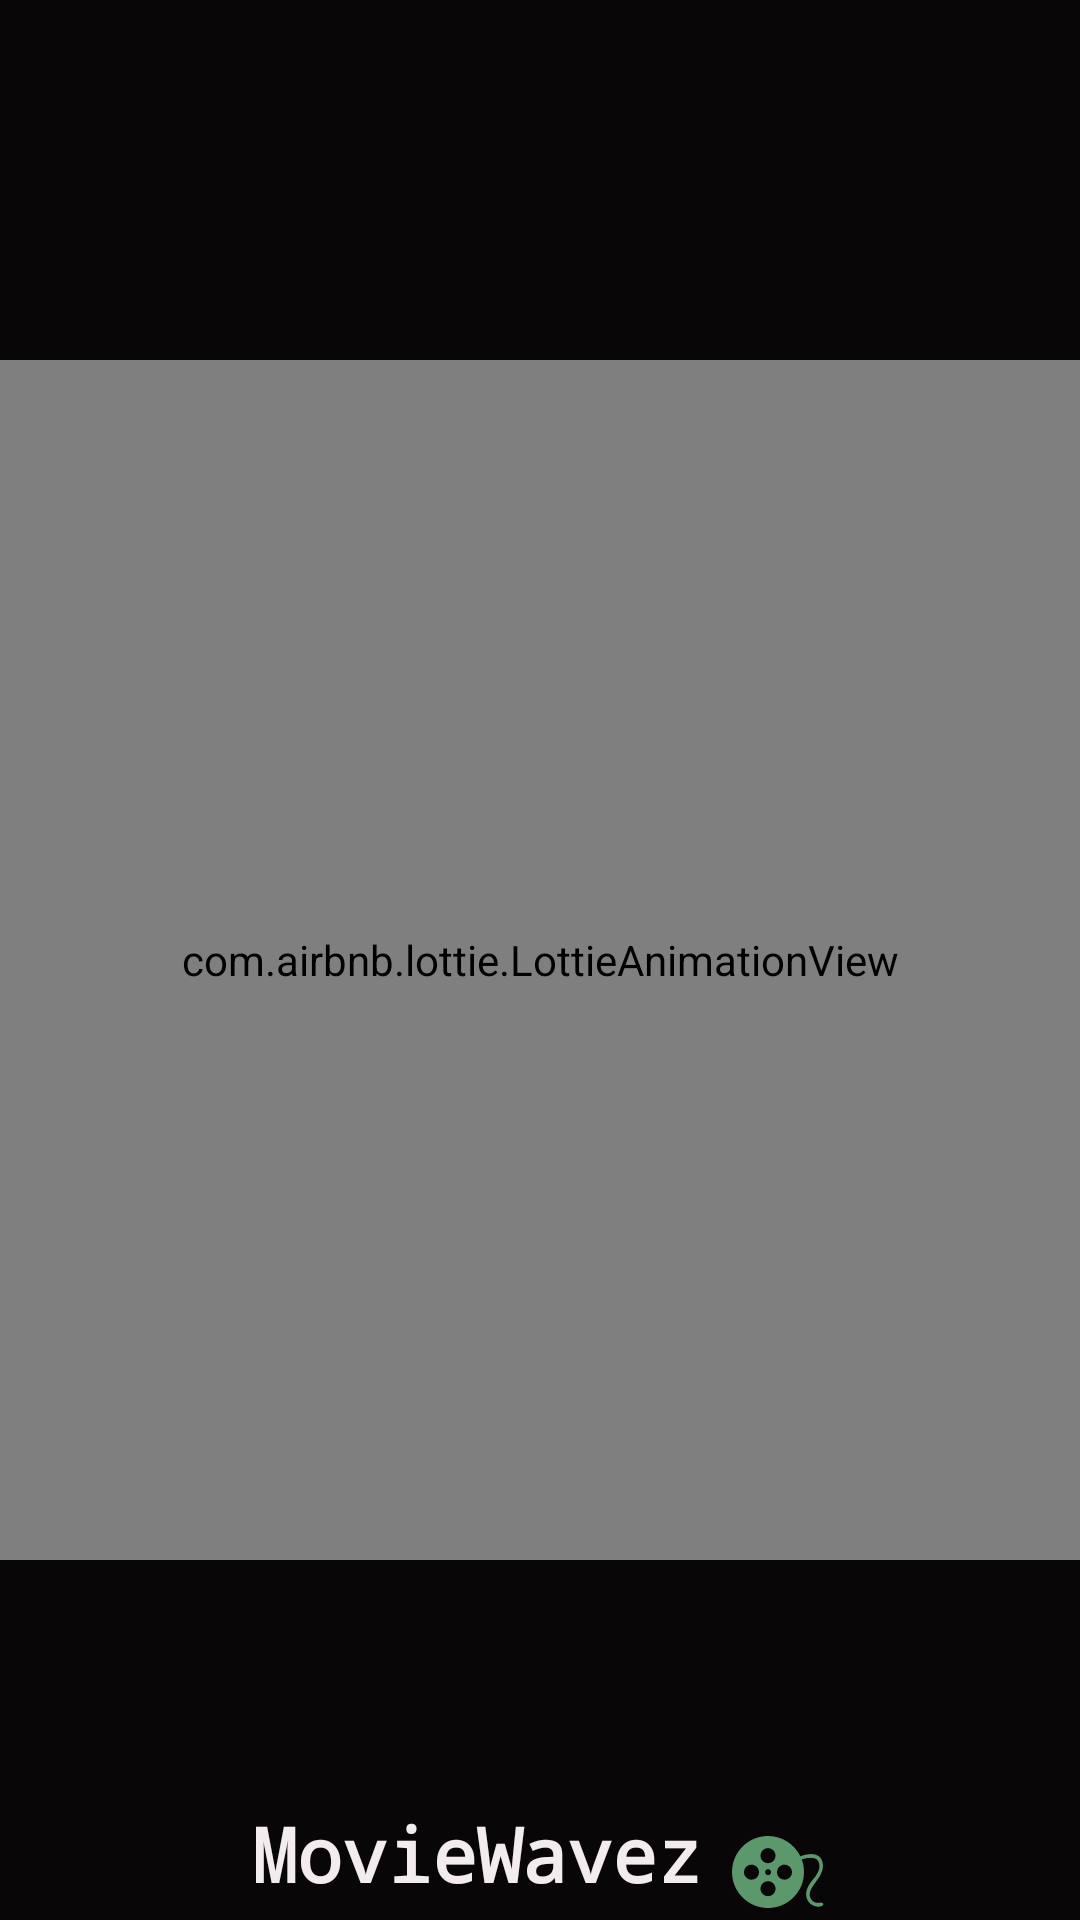

Where icons sit on this 1080 × 1920 app screen, as bbox=[x1, y1, x2, y2]:
film: bbox=[732, 1836, 824, 1908]
